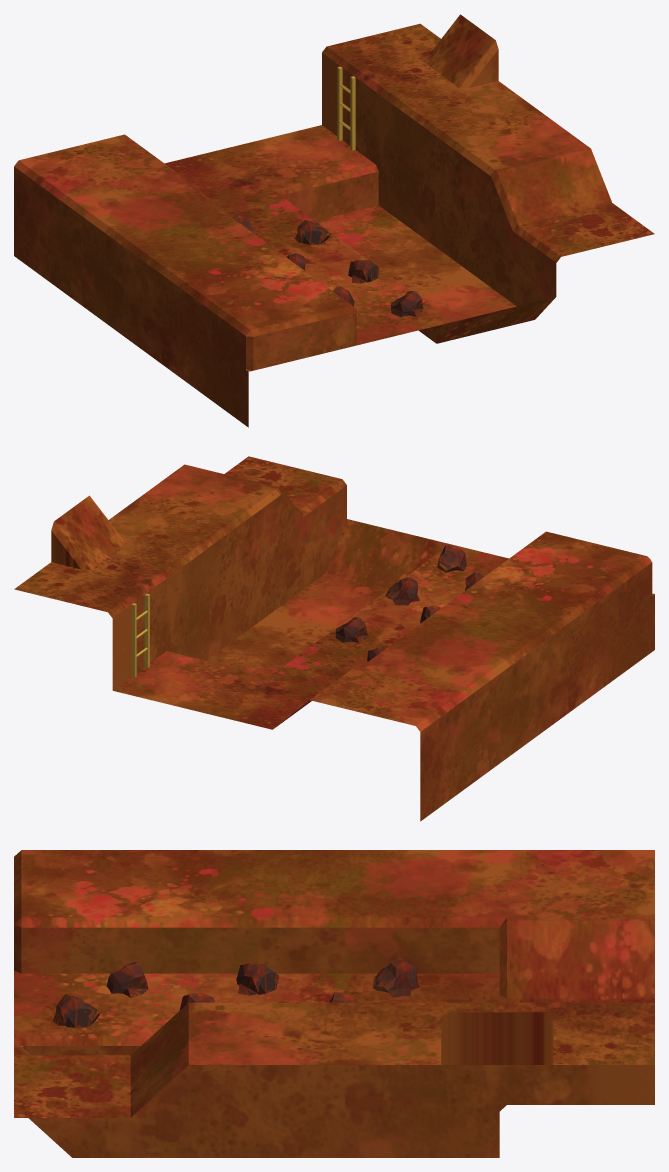
The model's file is lvl_2-cnk_1.obj.
3 views of the same model, one above another, from view 1: azimuth 30°, elevation 25°; view 2: azimuth 150°, elevation 25°; view 3: azimuth 270°, elevation 25° (orthographic). The views are drawn at different scales.
Visible parts, largest first — view 1: chunk.004, Escaleras, Icosphere.006, Icosphere.013, Icosphere.004; view 2: chunk.004, Escaleras, Icosphere.004, Icosphere.006, Icosphere.013; view 3: chunk.004, Icosphere.012, Icosphere.003, Icosphere.006, Icosphere.005.
Part boxes in pixels (x1,y1,x2,y2): chunk.004: [14, 14, 654, 427]; Escaleras: [337, 66, 355, 150]; Icosphere.006: [390, 290, 423, 317]; Icosphere.013: [295, 219, 330, 244]; Icosphere.004: [348, 260, 379, 283]; chunk.004: [14, 456, 654, 821]; Escaleras: [131, 593, 149, 677]; Icosphere.004: [385, 577, 419, 605]; Icosphere.006: [437, 544, 466, 572]; Icosphere.013: [335, 617, 367, 643]; chunk.004: [14, 850, 654, 1157]; Icosphere.012: [373, 957, 419, 997]; Icosphere.003: [236, 963, 279, 995]; Icosphere.006: [53, 994, 100, 1027]; Icosphere.005: [106, 962, 148, 997].
Bounding box in the file's own units: 99 × 40 × 99.
